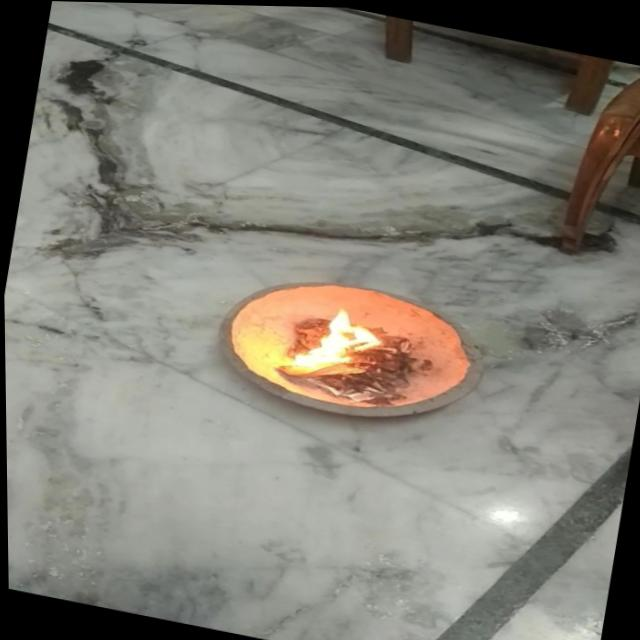fire: (276, 294, 392, 388)
